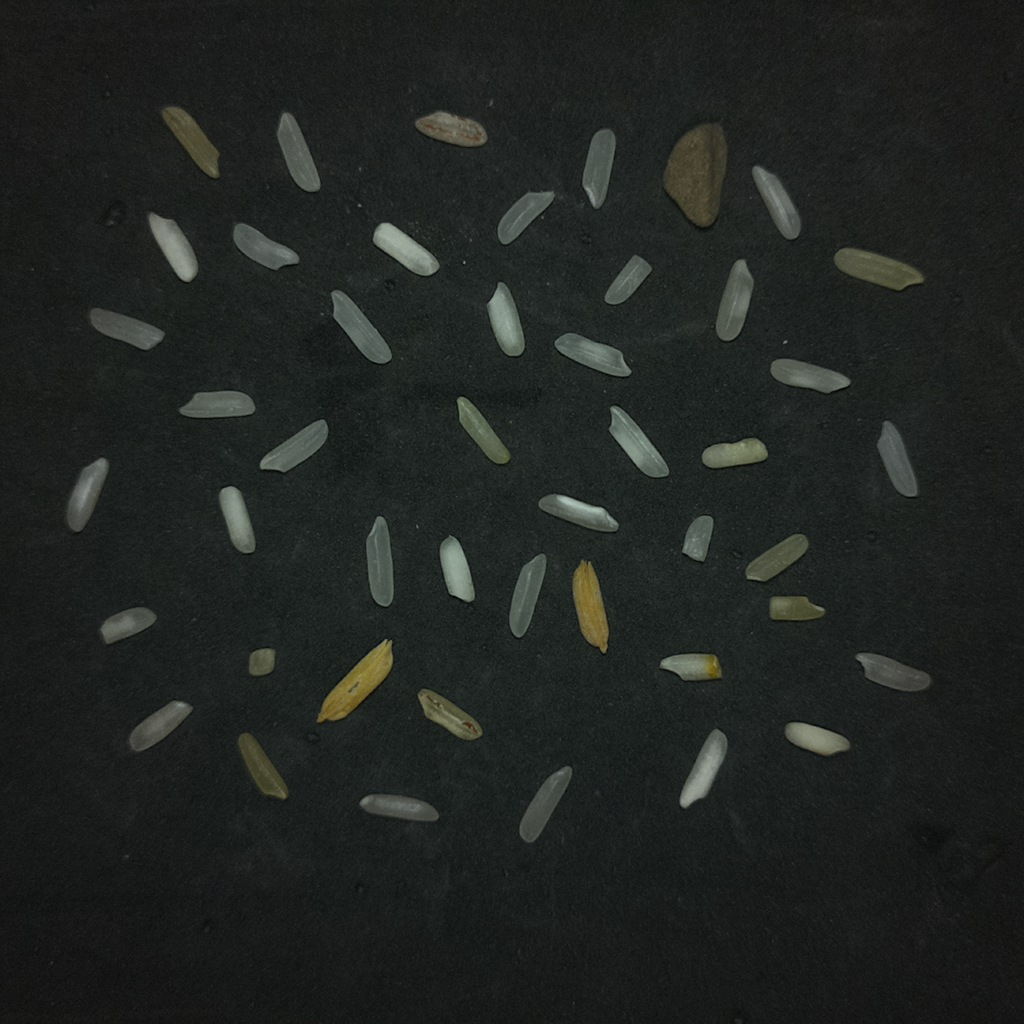broken: (128, 700, 192, 751), (65, 457, 108, 532), (88, 308, 164, 350), (232, 223, 299, 270), (497, 191, 553, 244), (538, 494, 618, 531), (604, 255, 651, 304), (100, 606, 155, 644), (178, 391, 254, 418), (659, 653, 721, 680), (683, 515, 713, 561), (769, 596, 824, 620), (249, 648, 275, 676)
chalky: (679, 729, 727, 808), (372, 222, 439, 275), (148, 212, 197, 282), (487, 282, 524, 356), (218, 486, 256, 554), (439, 535, 474, 602), (784, 722, 850, 755), (701, 437, 767, 468)
discolored: (161, 106, 219, 178), (834, 247, 924, 290), (457, 396, 509, 464), (238, 733, 288, 800), (417, 689, 482, 739), (746, 533, 808, 581)
foreign: (663, 123, 728, 227)
paddy: (317, 639, 393, 723), (572, 560, 608, 652)
red: (414, 111, 486, 147)
whole: (331, 290, 391, 364), (609, 406, 668, 477), (519, 766, 573, 843), (752, 165, 800, 239), (260, 420, 327, 472), (277, 113, 320, 192), (554, 332, 631, 376), (876, 420, 919, 498), (509, 554, 546, 637), (716, 259, 753, 341), (855, 652, 931, 691), (770, 358, 850, 393), (582, 129, 615, 208), (365, 516, 393, 607), (359, 794, 438, 821)
